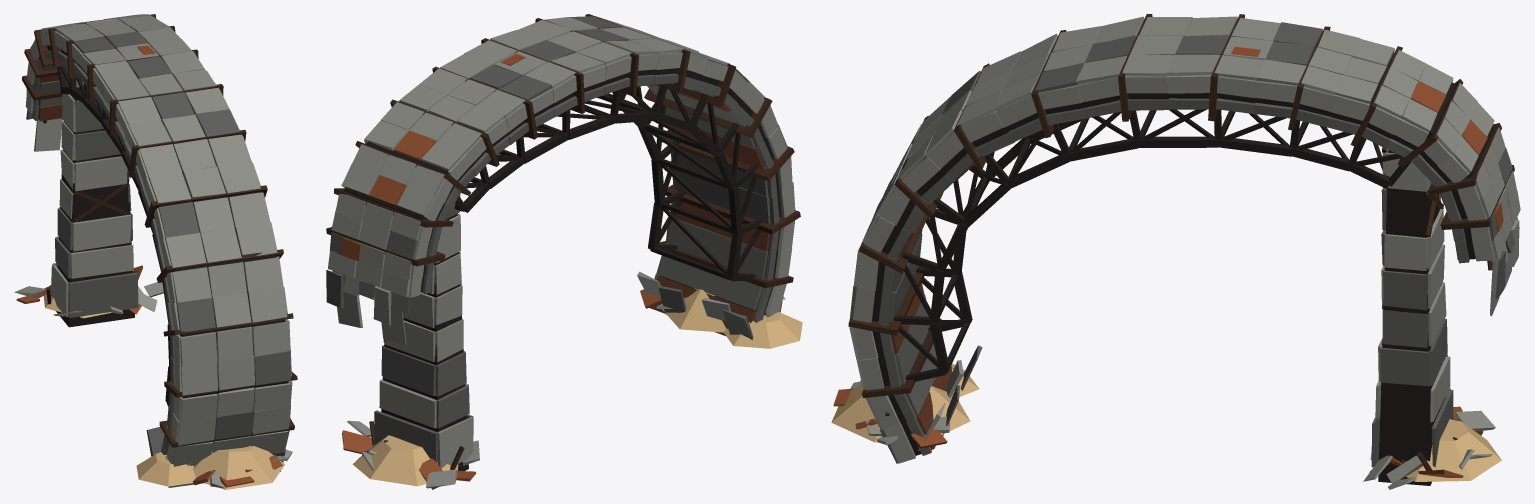
File: ship_wing.glb
3 views of the same model, side by side, from view 1: azimuth 30°, elevation 25°; view 2: azimuth 150°, elevation 25°; view 3: azimuth 270°, elevation 25° (orthographic). The views are drawn at different scales.
Visible parts, largest first — view 1: ship_wing; view 2: ship_wing; view 3: ship_wing.
Boxes of the visible parts, x1=… form: ship_wing: x1=14, y1=14, x2=297, y2=489; ship_wing: x1=326, y1=14, x2=802, y2=489; ship_wing: x1=831, y1=14, x2=1520, y2=489.
Bounding box in the file's own units: 22.68 × 32.5 × 49.04.
